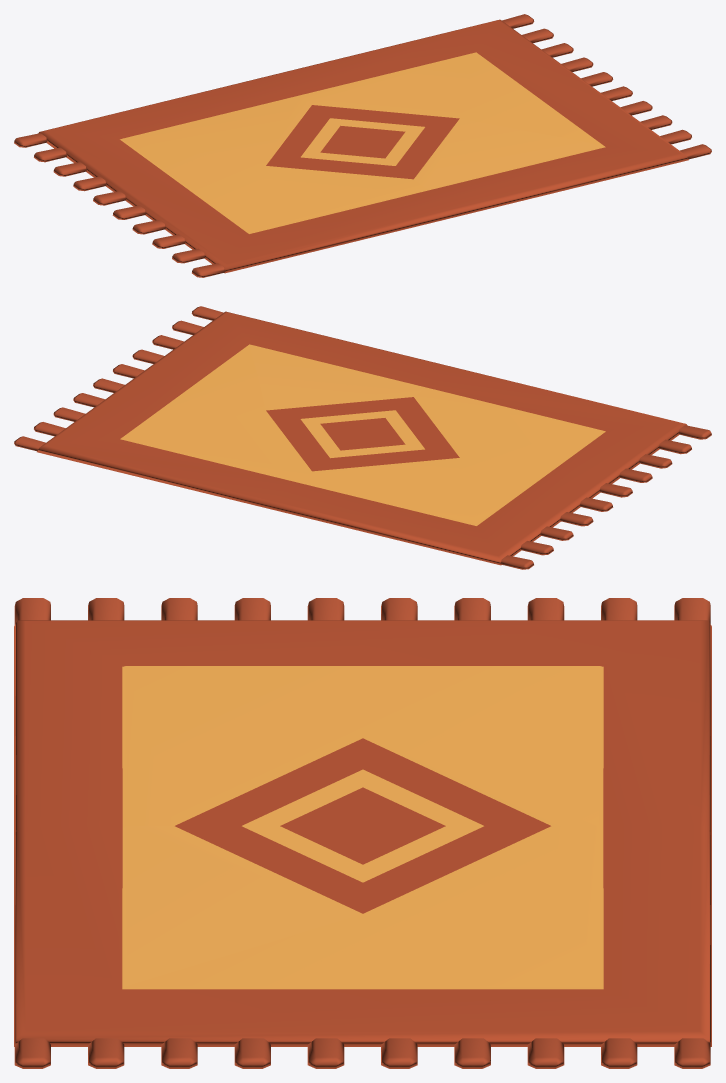
The model's file is Furniture_Rug_03.fbx.
3 views of the same model, one above another, from view 1: azimuth 30°, elevation 25°; view 2: azimuth 150°, elevation 25°; view 3: azimuth 270°, elevation 25° (orthographic). The views are drawn at different scales.
Visible parts, largest first — view 1: Furniture_Rug_03; view 2: Furniture_Rug_03; view 3: Furniture_Rug_03.
Boxes of the visible parts, x1,y1,x2,y2 form: Furniture_Rug_03: (14,14,711,277); Furniture_Rug_03: (14,306,711,569); Furniture_Rug_03: (14,598,711,1068).
Size of the model in its own units: 394 by 4.27 by 249.
